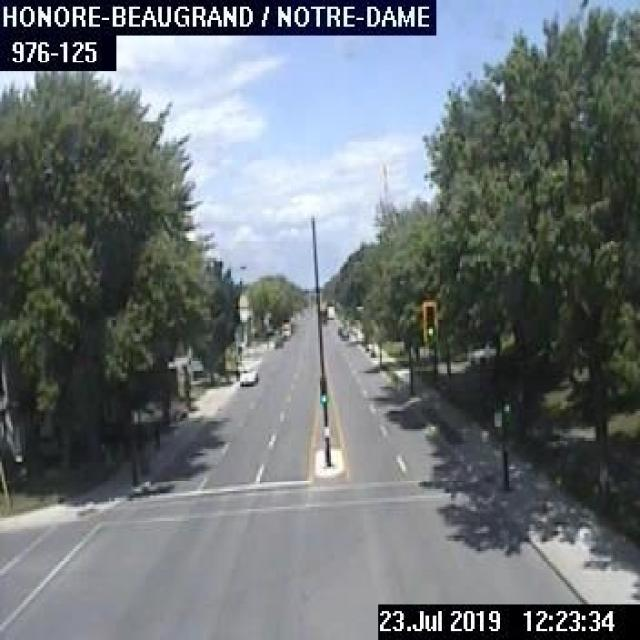vehicle: (238, 368, 256, 385), (280, 321, 289, 338), (272, 335, 283, 347)
